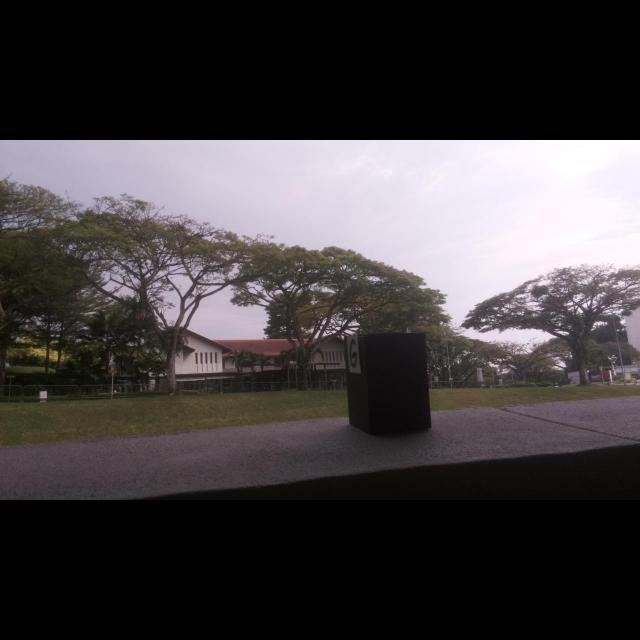G: (350, 339, 357, 368)
